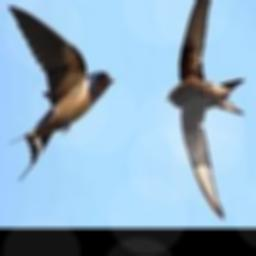Swallow: (9, 5, 115, 179), (166, 0, 245, 219)
